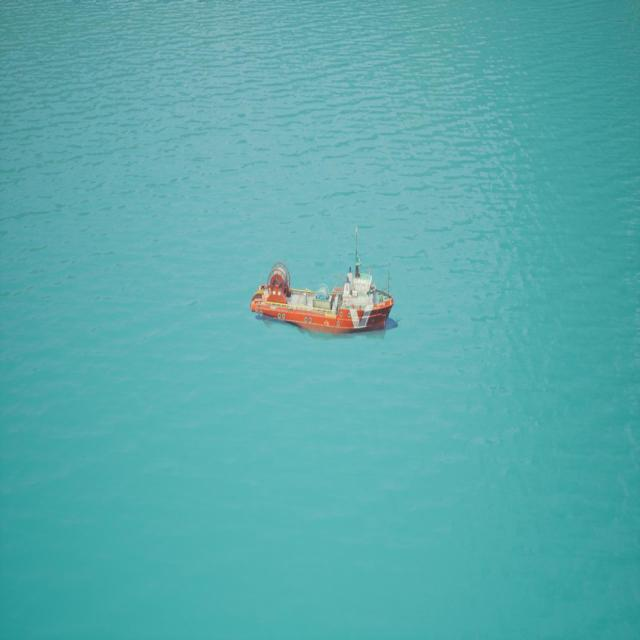tug boat: (252, 232, 397, 337)
